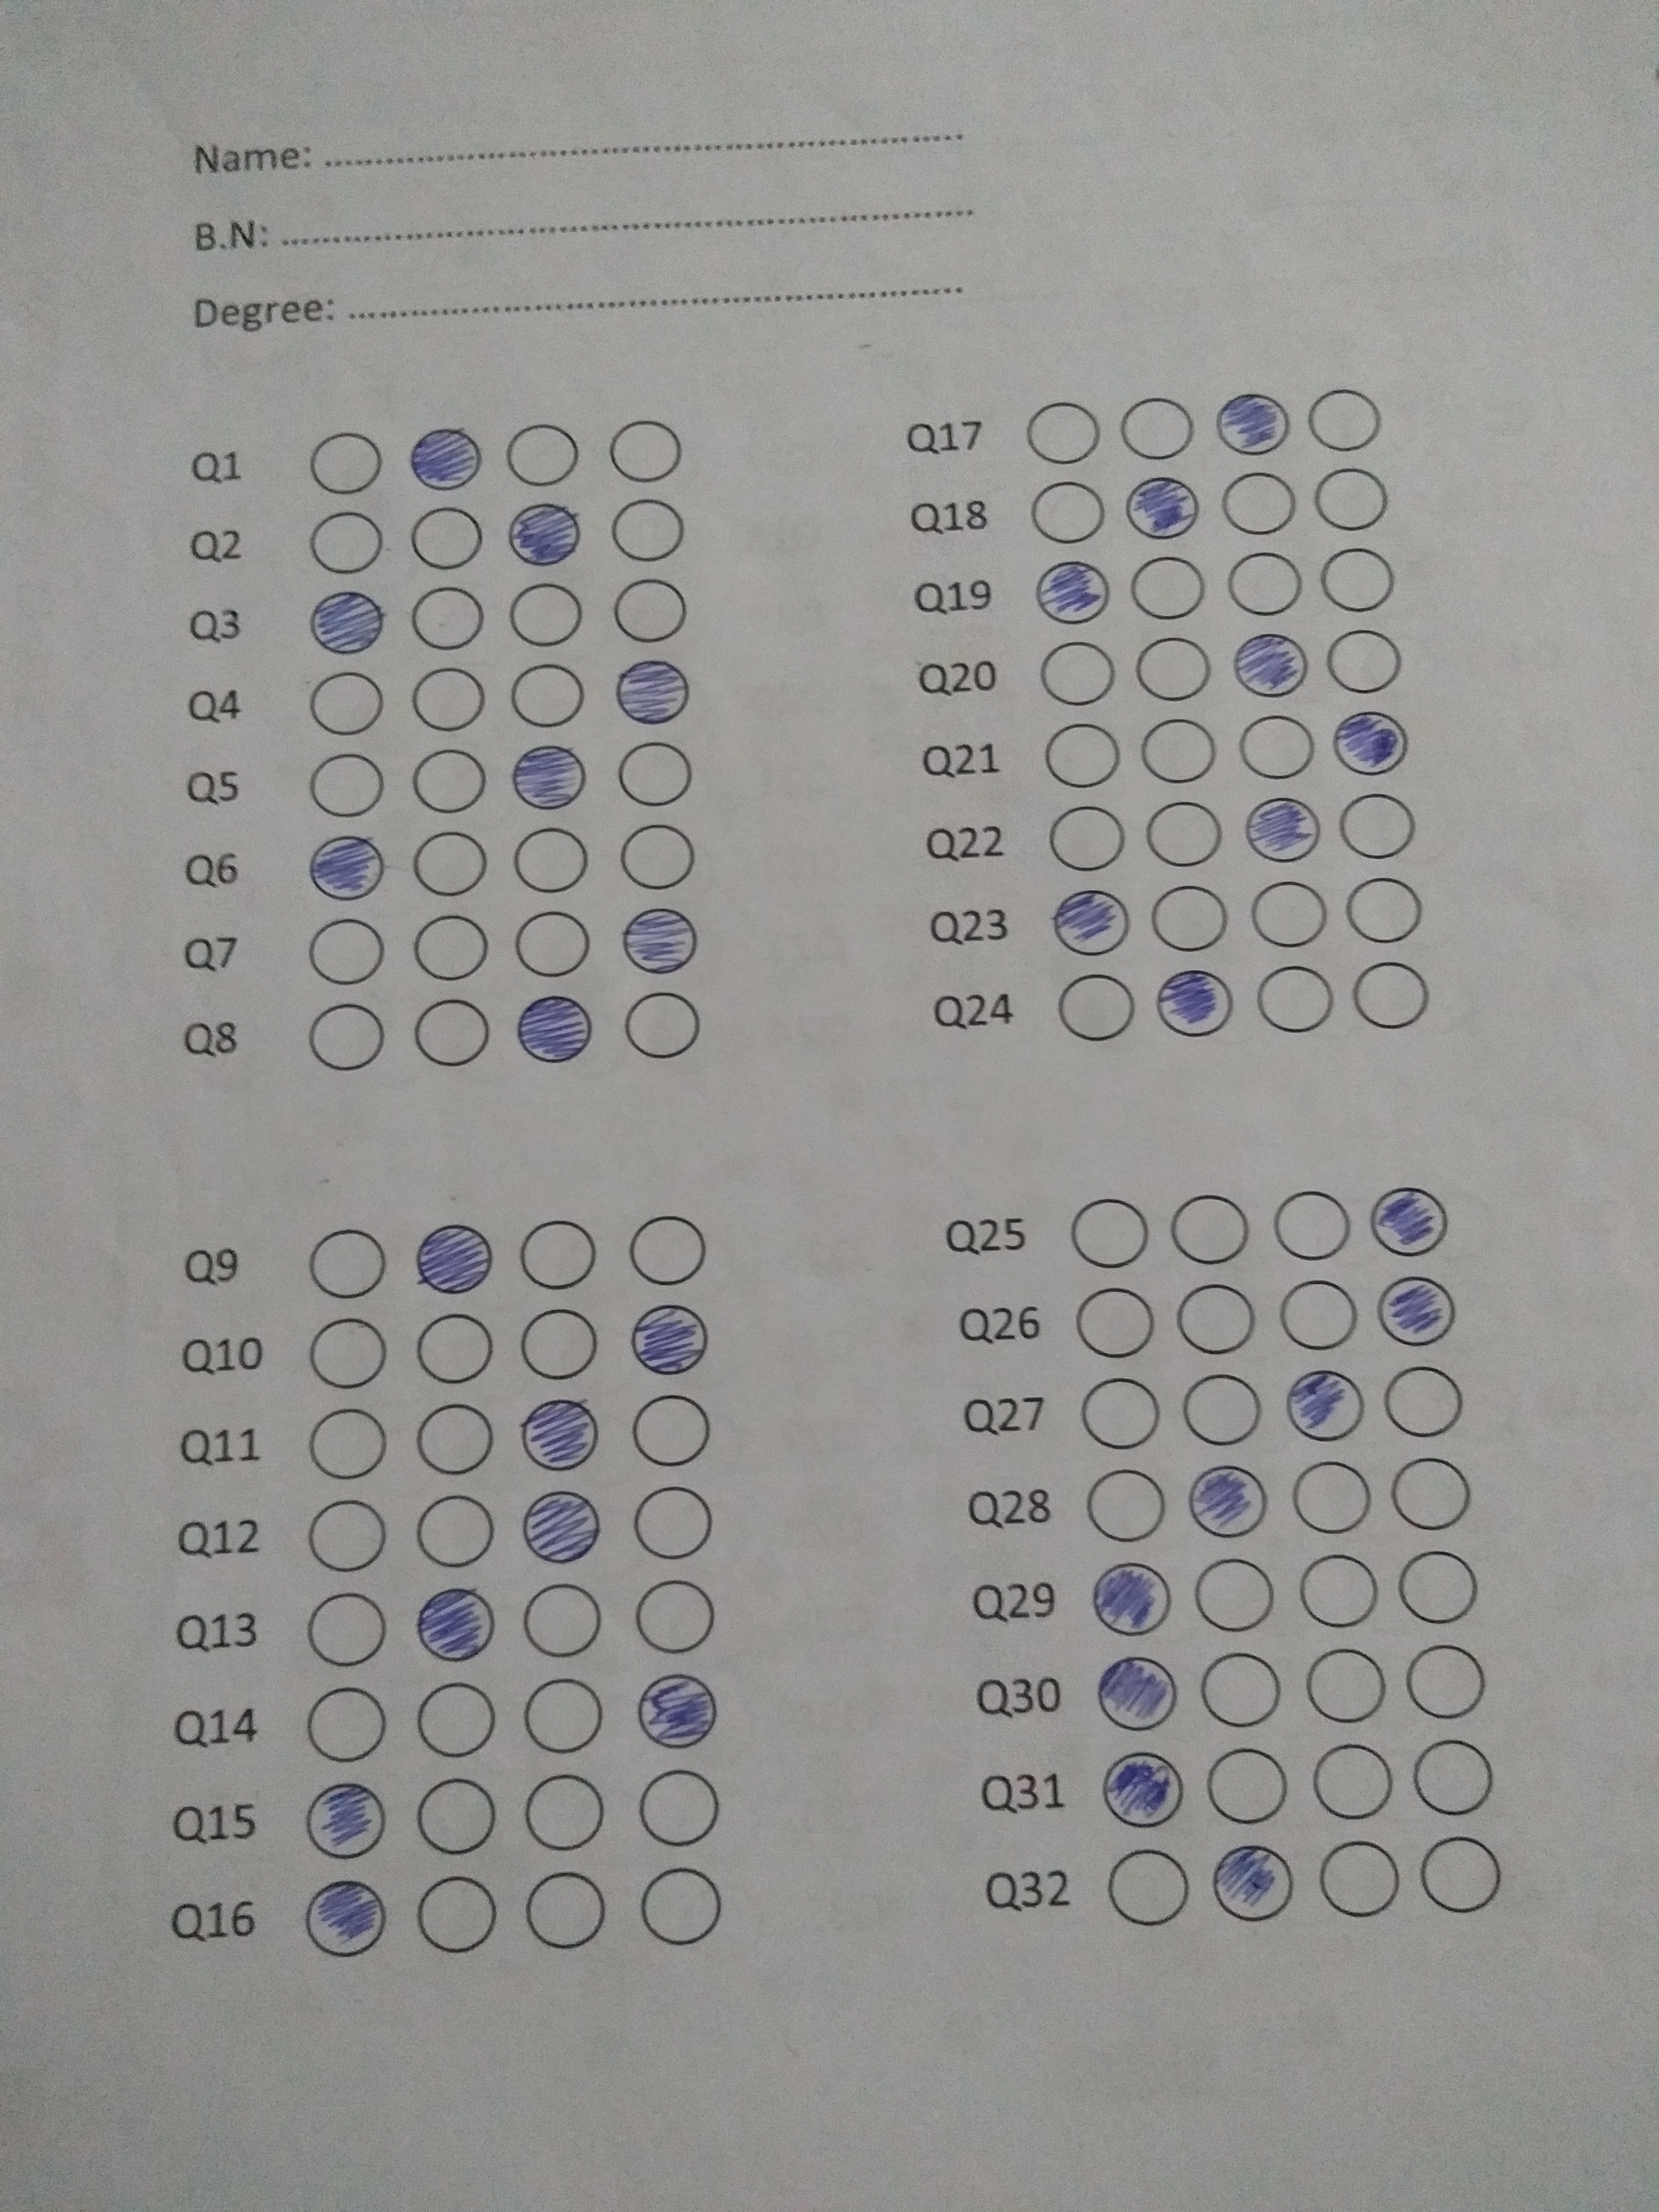not-c: (1417, 1831, 1504, 1911), (1408, 1737, 1495, 1817), (303, 1681, 390, 1761), (413, 1681, 500, 1761), (640, 1865, 727, 1946), (1378, 1362, 1466, 1442), (1072, 1282, 1159, 1362), (626, 1390, 713, 1470), (411, 1305, 498, 1385), (525, 1867, 612, 1947), (413, 1874, 500, 1954), (1082, 1465, 1168, 1545), (1316, 1838, 1401, 1918), (1310, 1742, 1396, 1822), (1405, 1642, 1490, 1723), (1197, 1649, 1283, 1730), (1396, 1545, 1481, 1625), (1297, 1552, 1382, 1632), (1389, 1453, 1474, 1533), (1290, 1460, 1375, 1540), (303, 1587, 389, 1667), (519, 1581, 605, 1662), (305, 1496, 390, 1576), (411, 1491, 497, 1571), (307, 1402, 392, 1482), (411, 1399, 497, 1479), (627, 1576, 713, 1656), (627, 1482, 713, 1562), (636, 1768, 721, 1848), (525, 1773, 610, 1853), (413, 1775, 498, 1855), (1105, 1846, 1192, 1925), (1202, 1745, 1290, 1824), (1303, 1644, 1391, 1723), (1190, 1555, 1277, 1634), (305, 1315, 392, 1393), (1178, 1372, 1263, 1451), (519, 1676, 605, 1754), (1115, 388, 1199, 463), (1319, 542, 1403, 617), (1126, 552, 1209, 627), (1025, 479, 1108, 554), (507, 826, 591, 900), (1046, 801, 1129, 876), (612, 737, 695, 812), (305, 747, 389, 822), (307, 665, 390, 740), (404, 662, 488, 737), (505, 657, 589, 732), (608, 575, 692, 650), (504, 577, 587, 651), (403, 580, 486, 655), (301, 505, 385, 580), (404, 498, 488, 573), (605, 415, 688, 489), (1274, 1275, 1358, 1350), (1175, 1282, 1258, 1357), (1270, 1186, 1354, 1261), (1168, 1191, 1251, 1266), (1040, 716, 1124, 791), (307, 1228, 390, 1303), (516, 1219, 599, 1294), (1246, 876, 1330, 951), (1053, 972, 1136, 1047), (1342, 869, 1425, 944), (1033, 634, 1117, 709), (624, 1214, 708, 1289), (303, 1000, 387, 1075), (408, 907, 491, 982), (509, 906, 592, 981), (519, 1306, 601, 1381), (1147, 881, 1229, 956), (1349, 958, 1431, 1033), (305, 914, 387, 989), (1019, 397, 1103, 470), (1223, 547, 1307, 620), (1307, 462, 1391, 535), (1218, 465, 1302, 538), (1303, 380, 1387, 453), (408, 829, 491, 902), (408, 745, 491, 819), (605, 495, 688, 568), (498, 418, 582, 491), (303, 425, 387, 498), (613, 822, 697, 895), (1138, 714, 1222, 787), (1141, 798, 1225, 871), (1068, 1198, 1152, 1271), (1234, 709, 1317, 782), (1335, 789, 1419, 862), (1324, 625, 1408, 698), (1133, 629, 1216, 702), (410, 995, 493, 1068), (617, 988, 701, 1061), (1080, 1376, 1161, 1451), (1253, 961, 1335, 1035)
taken-c: (1201, 1841, 1298, 1926), (301, 1881, 392, 1966), (1093, 1651, 1187, 1733), (1096, 1750, 1192, 1831), (1082, 1559, 1180, 1637), (301, 1778, 394, 1860), (1225, 629, 1319, 705), (1148, 963, 1243, 1040), (1206, 388, 1300, 463), (612, 902, 706, 977), (1370, 1277, 1464, 1352), (1281, 1369, 1375, 1444), (1182, 1463, 1276, 1538), (408, 1587, 502, 1662), (633, 1672, 727, 1747), (516, 1487, 610, 1562), (512, 1395, 606, 1470), (626, 1301, 720, 1376), (410, 1219, 502, 1294), (1115, 467, 1208, 542), (1324, 705, 1417, 780), (1236, 792, 1328, 867), (1364, 1183, 1457, 1258), (1047, 887, 1140, 961), (300, 829, 392, 904), (502, 988, 594, 1062), (493, 496, 586, 570), (401, 418, 486, 496), (504, 742, 594, 815), (305, 585, 396, 657), (606, 655, 697, 726), (1032, 556, 1119, 629)
